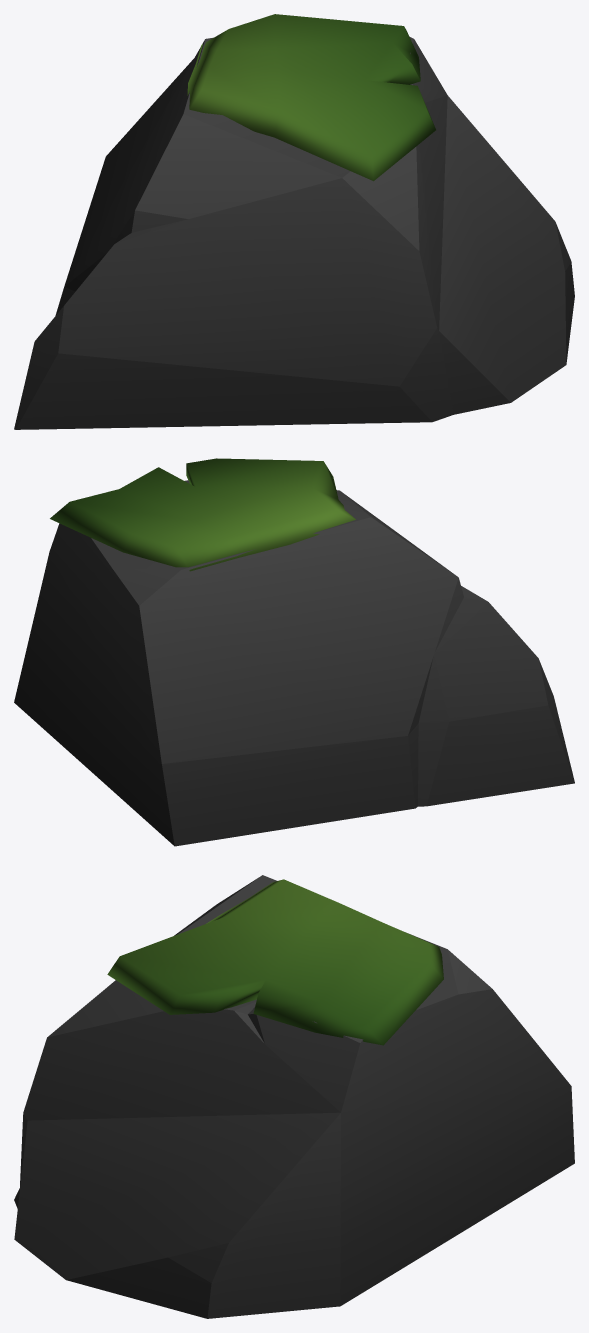
File: small_rock22.fbx
3 views of the same model, one above another, from view 1: azimuth 30°, elevation 25°; view 2: azimuth 150°, elevation 25°; view 3: azimuth 270°, elevation 25° (orthographic). The views are drawn at different scales.
Parts seen in each view (by area): view 1: RBg6; view 2: RBg6; view 3: RBg6.
Part boxes in pixels (x1=…): RBg6: x1=14, y1=14, x2=574, y2=429; RBg6: x1=14, y1=458, x2=574, y2=846; RBg6: x1=14, y1=875, x2=574, y2=1318.
Size of the model in its own units: 254 by 114 by 214.
